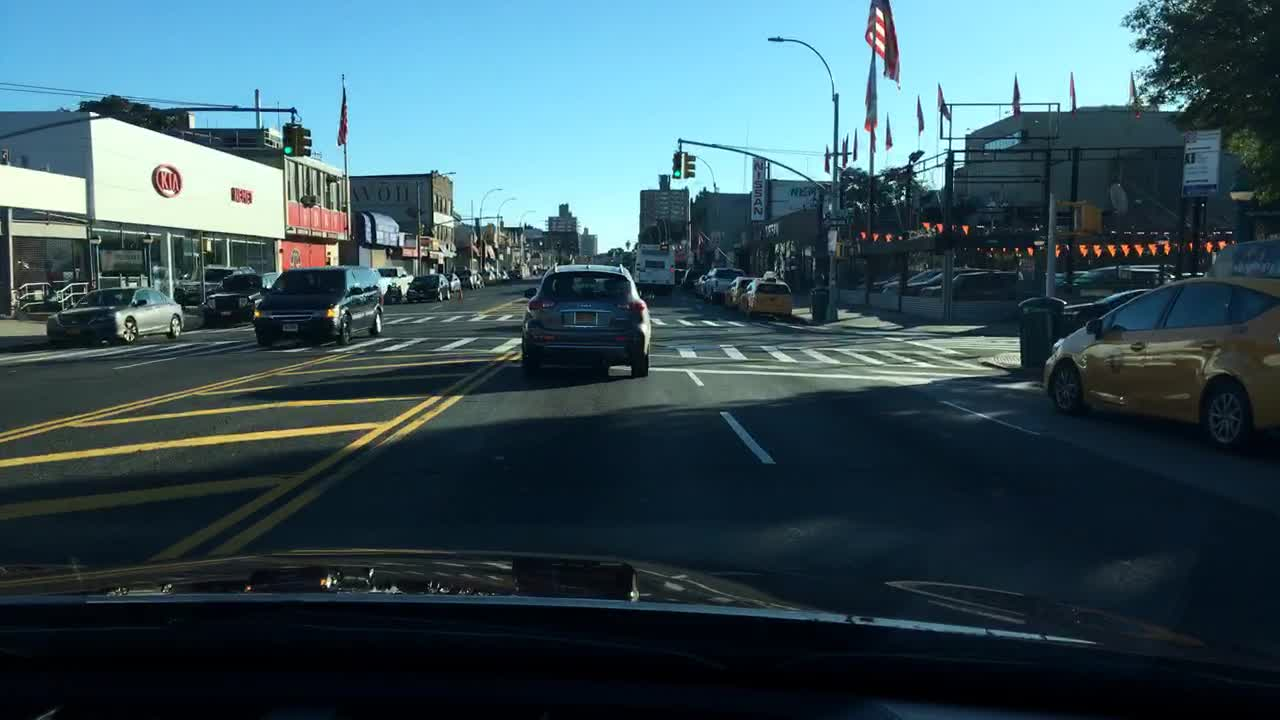bus: (633, 244, 674, 294)
car: (1042, 237, 1278, 450), (521, 260, 650, 377), (251, 263, 385, 345), (46, 285, 185, 345), (201, 270, 280, 327), (1058, 287, 1147, 331), (171, 264, 254, 307), (738, 269, 793, 319), (915, 270, 1020, 296), (881, 266, 994, 289), (1075, 263, 1177, 288), (881, 263, 944, 291), (702, 267, 743, 304), (405, 272, 451, 302), (864, 268, 917, 293), (377, 266, 410, 303), (723, 275, 754, 307), (1052, 267, 1081, 284), (441, 271, 463, 293), (683, 266, 702, 291), (460, 270, 479, 291), (692, 273, 704, 299), (479, 271, 496, 287), (674, 267, 685, 287), (508, 268, 524, 279), (492, 270, 502, 282), (500, 270, 509, 282)
traffic light: (1070, 203, 1102, 232), (295, 124, 312, 156), (282, 122, 295, 158), (683, 150, 695, 178), (671, 150, 682, 178), (836, 242, 846, 258)
traffic sign: (1182, 129, 1216, 196), (827, 230, 838, 253), (824, 216, 846, 225)
